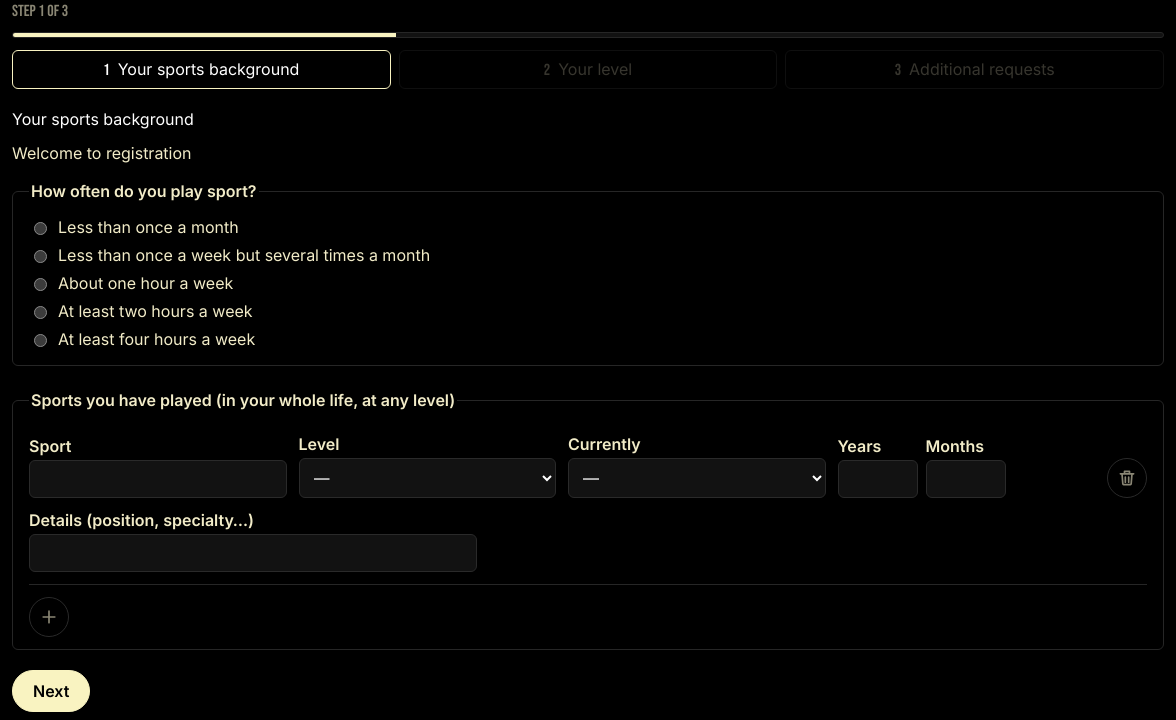
Test case: RegistrationForm wizard › refuses to leave step 1 without a frequency, then goes forward once it is chosen
Click the button "Next" at coordinates (51, 691), box x1=12 y1=670 x2=90 y2=712
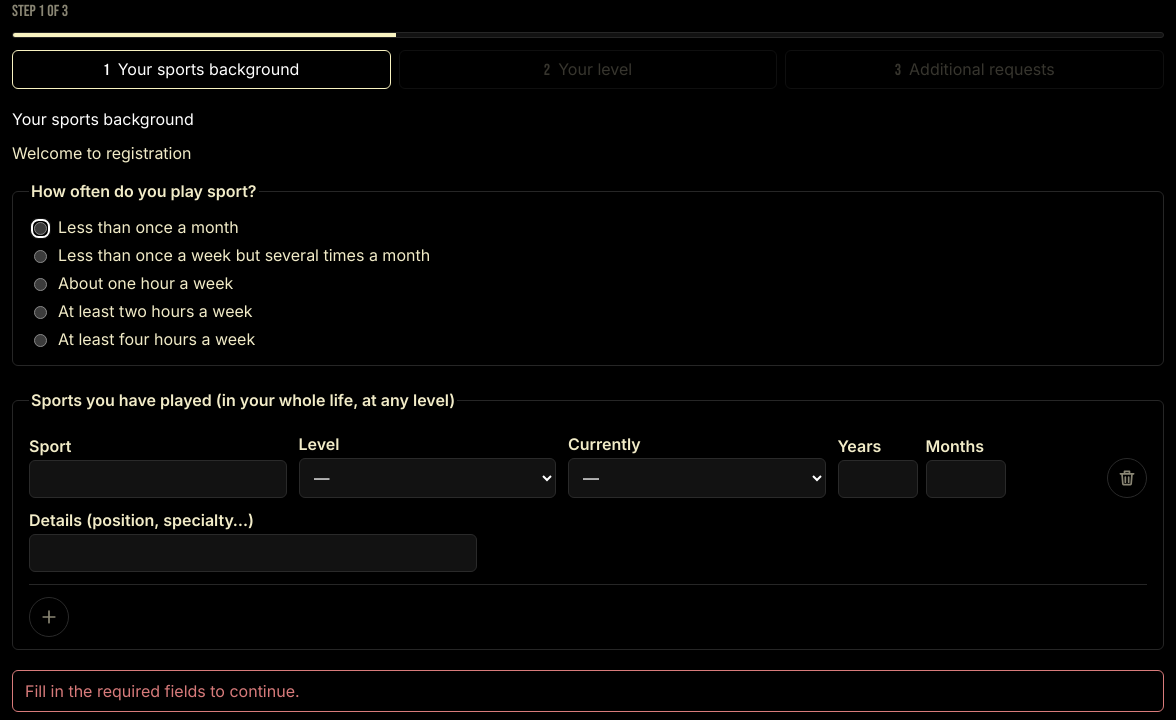
Now the message reads "Fill in the required fields to continue.", box x1=25 y1=681 x2=300 y2=701
Click the radio button labelled "About one hour a week" at coordinates (40, 284), box x1=34 y1=278 x2=47 y2=291
(page scrolled)
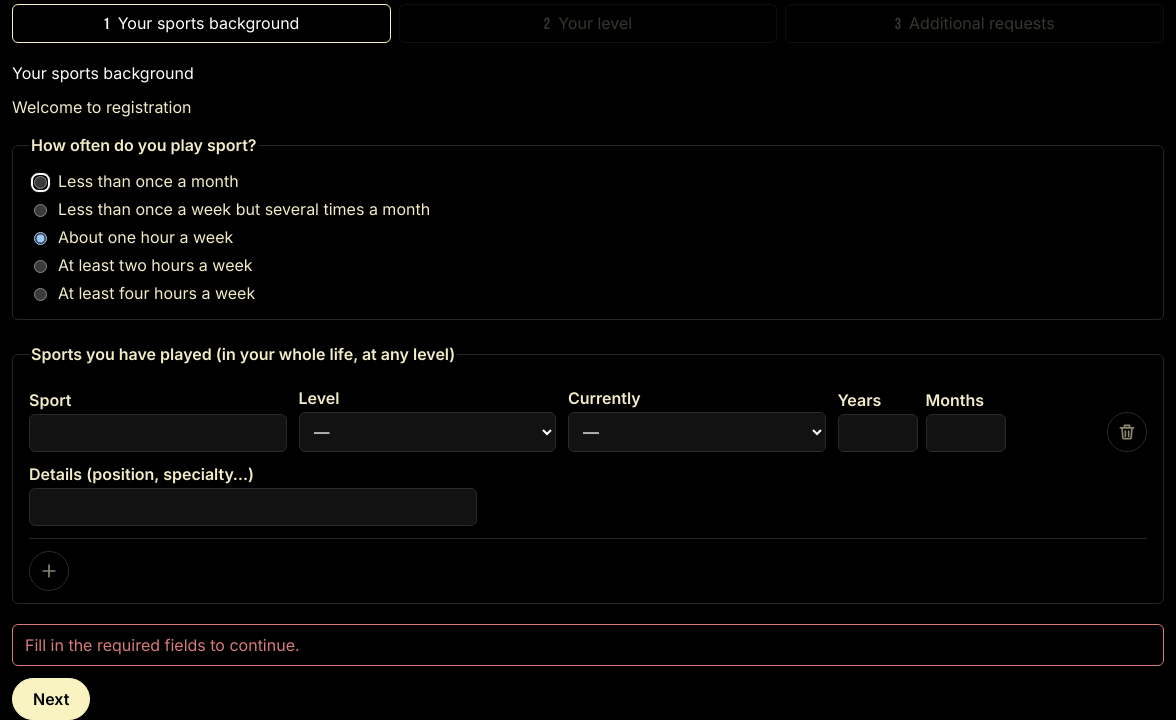
Click the button "Next" at coordinates (51, 699), box x1=12 y1=678 x2=90 y2=719
(page scrolled)
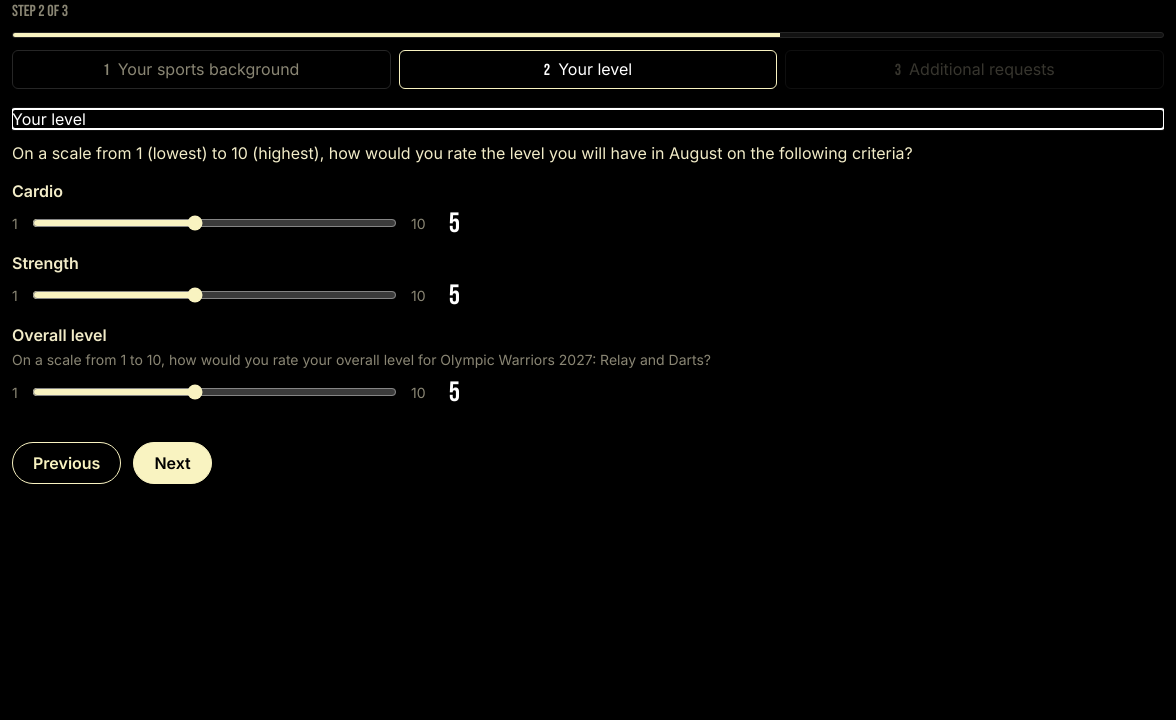
Now the text "Step 2 of 3" is shown, box x1=12 y1=2 x2=68 y2=21
Now the message "Fill in the required fields to continue." is gone
